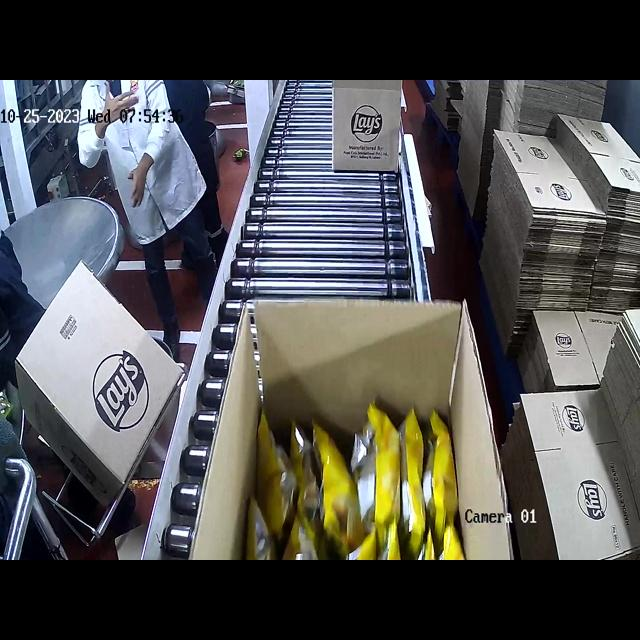salted: (257, 401, 461, 560)
